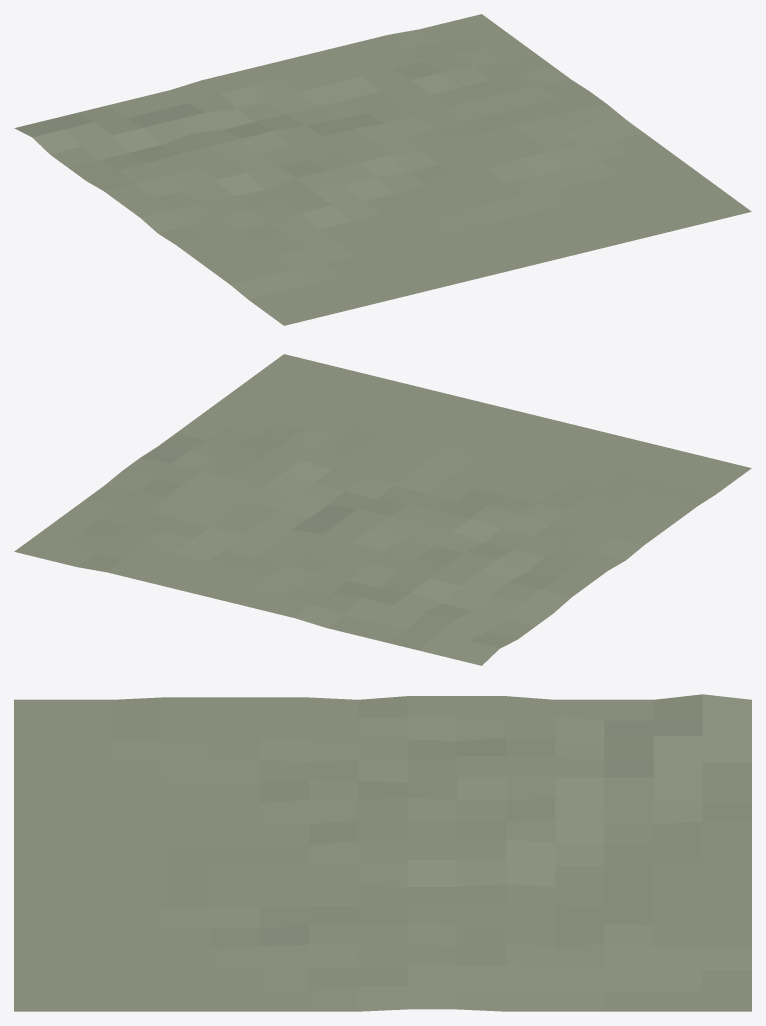
File: venusPlane.fbx
3 views of the same model, one above another, from view 1: azimuth 30°, elevation 25°; view 2: azimuth 150°, elevation 25°; view 3: azimuth 270°, elevation 25° (orthographic). The views are drawn at different scales.
Visible parts, largest first — view 1: venusPlane; view 2: venusPlane; view 3: venusPlane.
Boxes of the visible parts, box(x1,y1,x2,y2) form: venusPlane: box(14, 14, 751, 325); venusPlane: box(14, 354, 751, 665); venusPlane: box(14, 694, 751, 1011).
Size of the model in its own units: 4028 by 34.9 by 4028.
